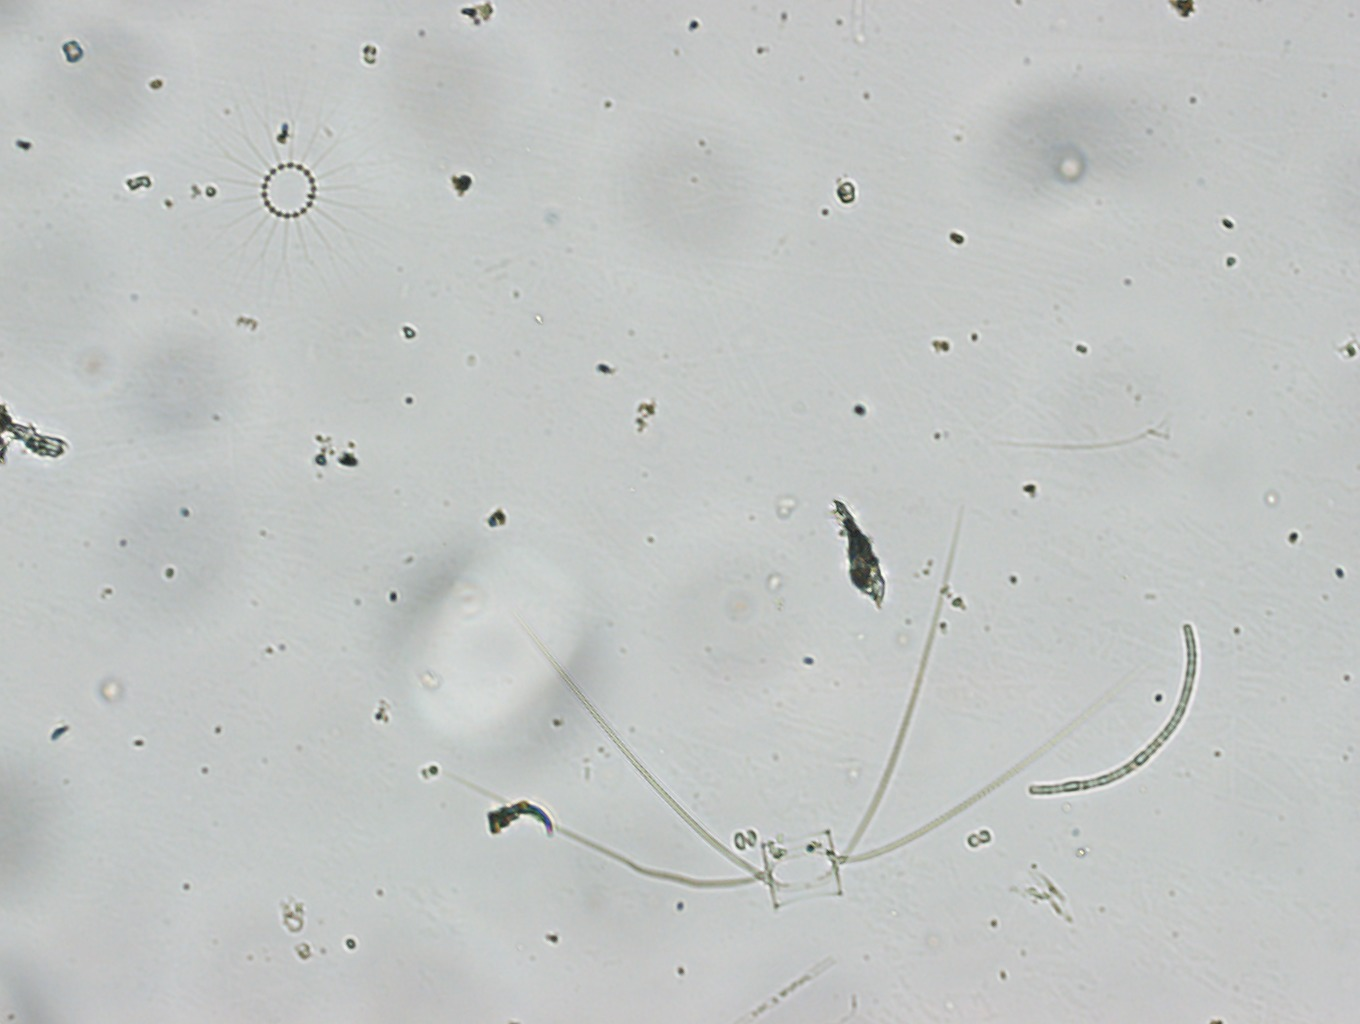bacteriastrum: (181, 69, 390, 301)
chaetoceros: (453, 507, 1136, 908)
